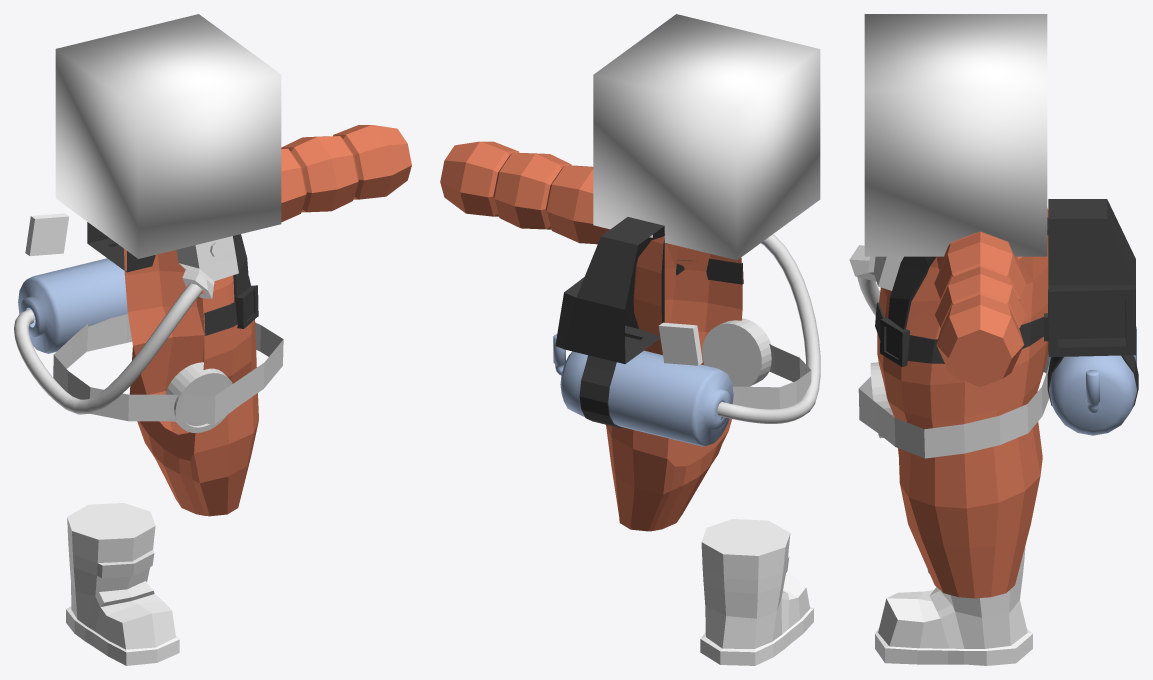
File: testcharagamejam.glb
3 renders of one model, left to right at view 1: azimuth 30°, elevation 25°; view 2: azimuth 150°, elevation 25°; view 3: azimuth 270°, elevation 25°, orthographic. The views are drawn at different scales.
Parts seen in each view (by area): view 1: Cube, body, Cube.003, Cube.005, Circle.002, Cylinder.001, BézierCurve, Cube.002, Cylinder.002, Cube.004; view 2: Cube, Cube.003, Cube.005, body, Cylinder.001, BézierCurve, Cylinder.002, Circle.002, Cube.004; view 3: Cube.003, Cube, Cube.005, body, Circle.002, Cylinder.001, Cube.002, Cylinder.002, BézierCurve.
Boxes of the visible parts, x1=… form: Cube: x1=55, y1=14, x2=281, y2=258; body: x1=124, y1=146, x2=411, y2=516; Cube.003: x1=87, y1=125, x2=411, y2=516; Cube.005: x1=66, y1=503, x2=179, y2=665; Circle.002: x1=53, y1=314, x2=283, y2=424; Cylinder.001: x1=18, y1=258, x2=127, y2=353; BézierCurve: x1=14, y1=283, x2=202, y2=414; Cube.002: x1=176, y1=236, x2=238, y2=298; Cylinder.002: x1=165, y1=362, x2=232, y2=432; Cube.004: x1=25, y1=213, x2=69, y2=255; Cube: x1=593, y1=14, x2=820, y2=260; Cube.003: x1=440, y1=141, x2=743, y2=531; Cube.005: x1=700, y1=519, x2=813, y2=665; body: x1=441, y1=154, x2=742, y2=531; Cylinder.001: x1=553, y1=334, x2=733, y2=446; BézierCurve: x1=717, y1=234, x2=820, y2=423; Cylinder.002: x1=702, y1=318, x2=771, y2=386; Circle.002: x1=732, y1=344, x2=811, y2=408; Cube.004: x1=658, y1=322, x2=702, y2=365; Cube.003: x1=875, y1=199, x2=1138, y2=598; Cube: x1=864, y1=14, x2=1047, y2=256; Cube.005: x1=875, y1=545, x2=1032, y2=665; body: x1=877, y1=208, x2=1048, y2=587; Circle.002: x1=858, y1=352, x2=1049, y2=458; Cylinder.001: x1=1049, y1=326, x2=1136, y2=435; Cube.002: x1=849, y1=245, x2=903, y2=290; Cylinder.002: x1=870, y1=362, x2=894, y2=438; BézierCurve: x1=857, y1=277, x2=880, y2=315.
Size of the model in its own units: 1.05 by 1.63 by 0.687.
